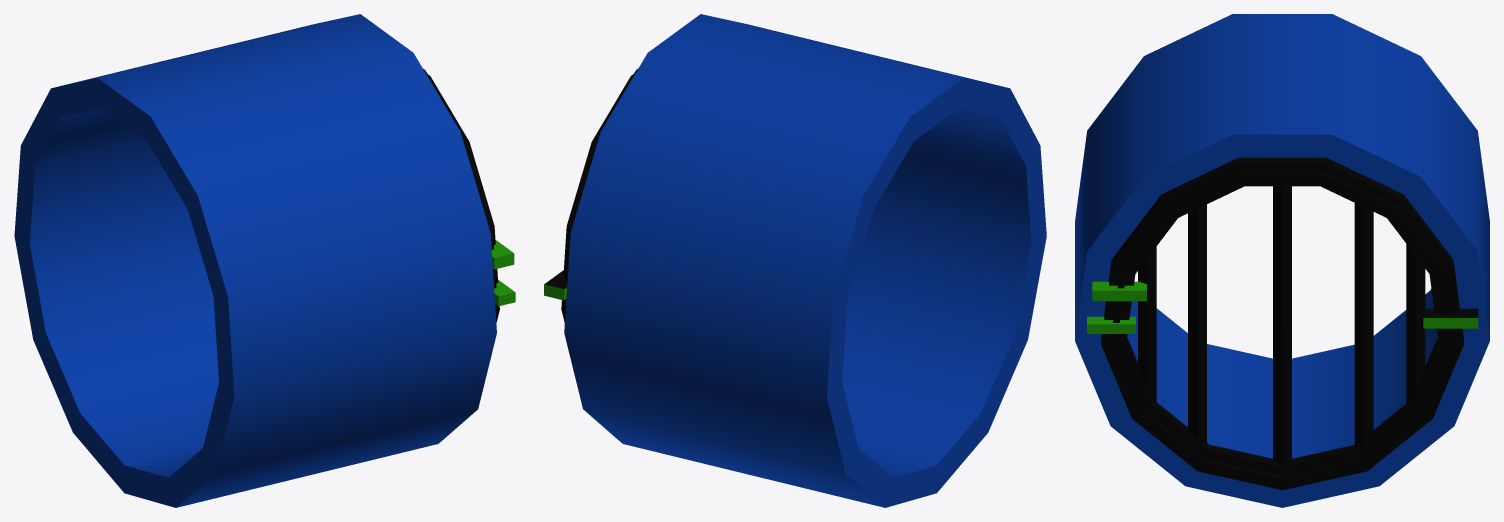
The model's file is Sewer_KW.fbx.
3 views of the same model, side by side, from view 1: azimuth 30°, elevation 25°; view 2: azimuth 150°, elevation 25°; view 3: azimuth 270°, elevation 25° (orthographic). The views are drawn at different scales.
Visible parts, largest first — view 1: Sewer_KW; view 2: Sewer_KW; view 3: Sewer_KW.
Boxes of the visible parts, left/top/right/bottom form: Sewer_KW: left=14, top=14, right=515, bottom=507; Sewer_KW: left=544, top=14, right=1046, bottom=507; Sewer_KW: left=1075, top=14, right=1489, bottom=507.
Size of the model in its own units: 166 by 217 by 219.
